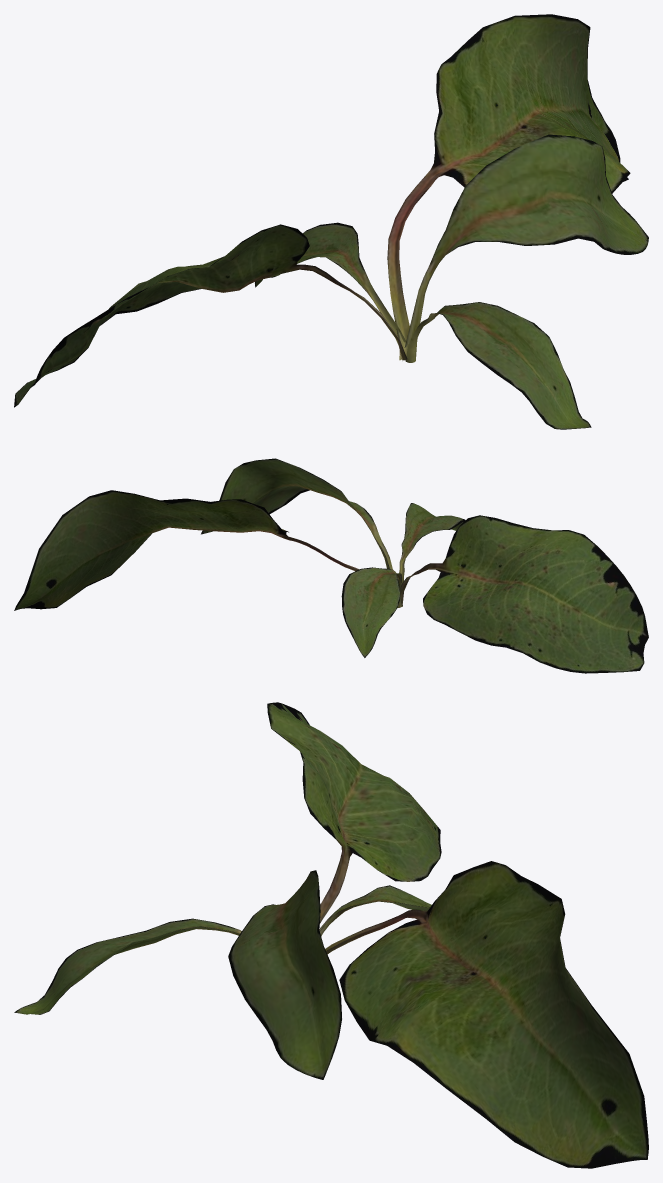
File: weed_plant_02_d.gltf
3 views of the same model, one above another, from view 1: azimuth 30°, elevation 25°; view 2: azimuth 150°, elevation 25°; view 3: azimuth 270°, elevation 25° (orthographic). The views are drawn at different scales.
Parts seen in each view (by area): view 1: weed_plant_02_d_LOD0; view 2: weed_plant_02_d_LOD0; view 3: weed_plant_02_d_LOD0.
Part boxes in pixels (box(x1,y1,x2,y2)): weed_plant_02_d_LOD0: box(14, 14, 648, 429); weed_plant_02_d_LOD0: box(14, 458, 648, 673); weed_plant_02_d_LOD0: box(14, 702, 648, 1168).
Bounding box in the file's own units: 0.1541 × 0.0389 × 0.1081.
1 material, 1 textured.
